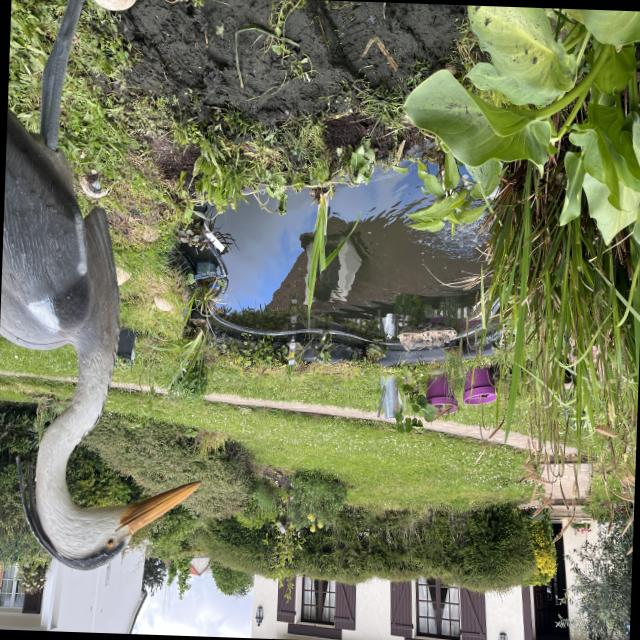Heron: (0, 0, 221, 593)
